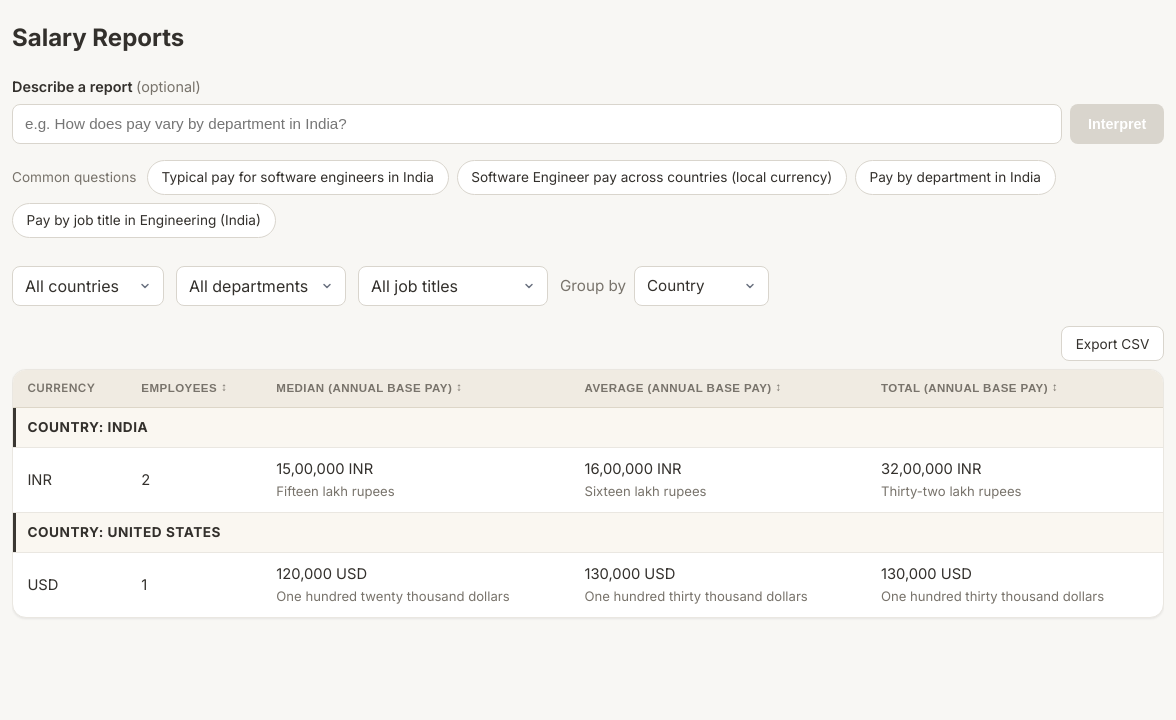
Test: ReportsPage › sorts by a column when its header is clicked, with a clear indicator
expect the text "15,00,000 INR" is shown: met, box 276,460 -> 373,478
Click the button "Median (annual base pay) ↕" at (369, 388), box 276,382 -> 462,394
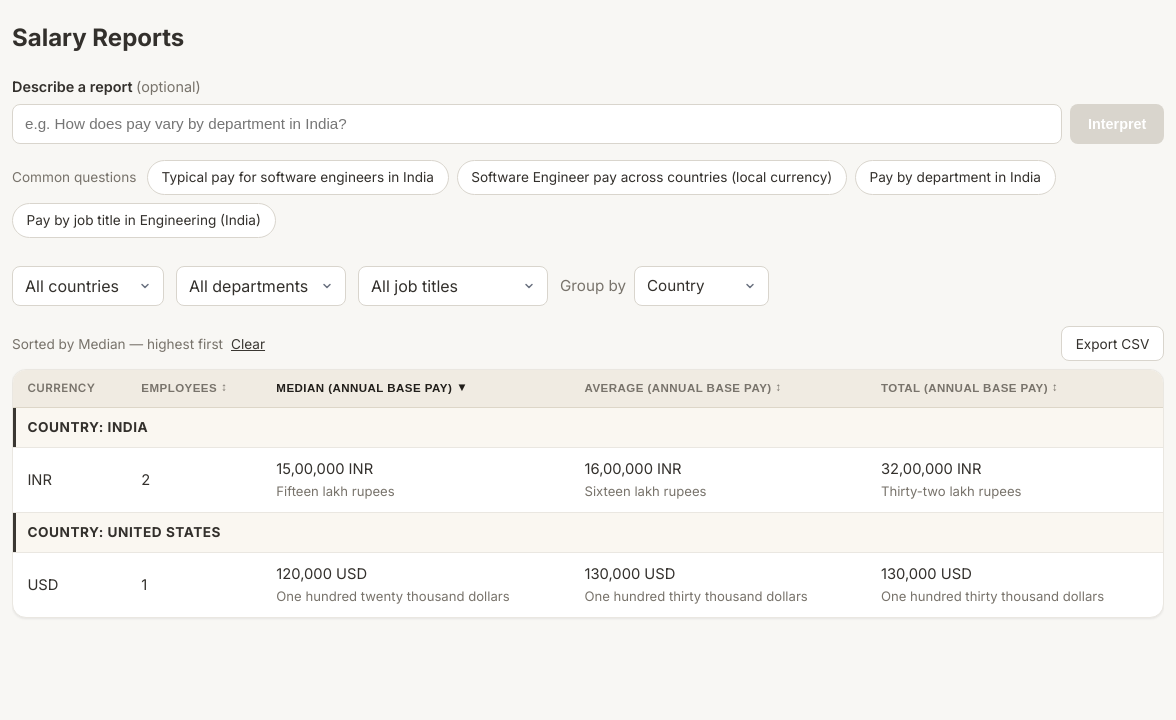
expect the text "Sorted by Median — highest first Clear" is shown: met, box 12,334 -> 265,354
Click the button "Median (annual base pay) ▼" at (372, 388), box 276,382 -> 468,394
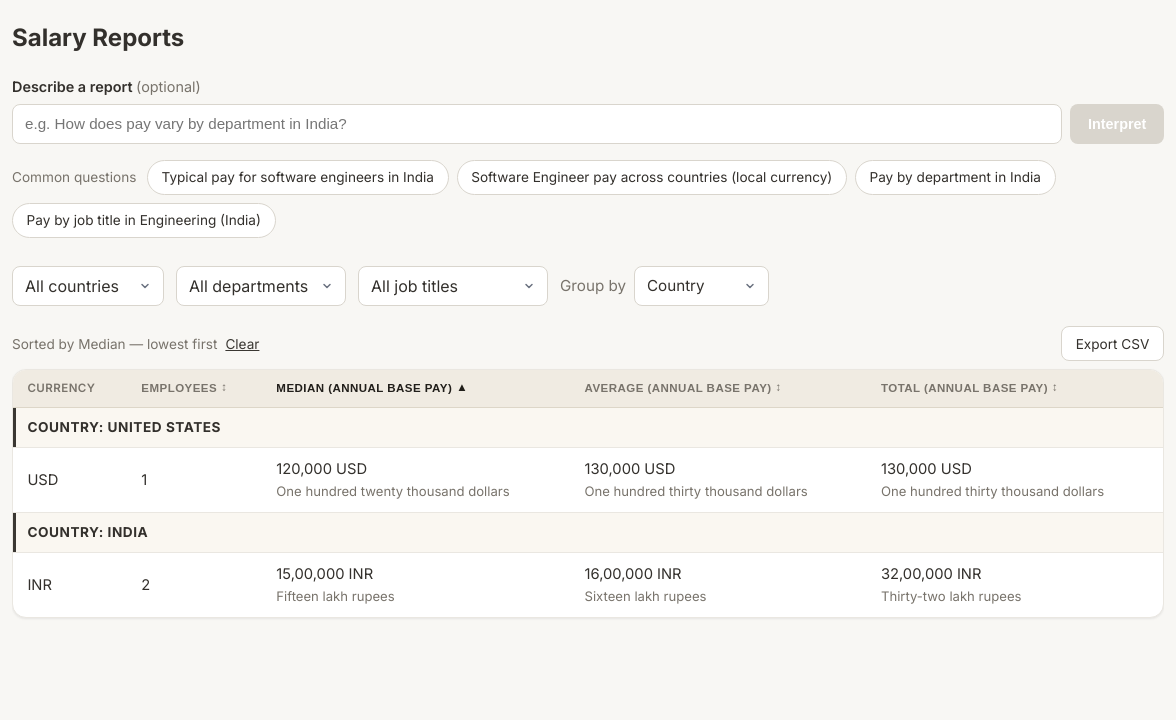
expect the text "Sorted by Median — lowest first Clear" is shown: met, box 12,334 -> 259,354
